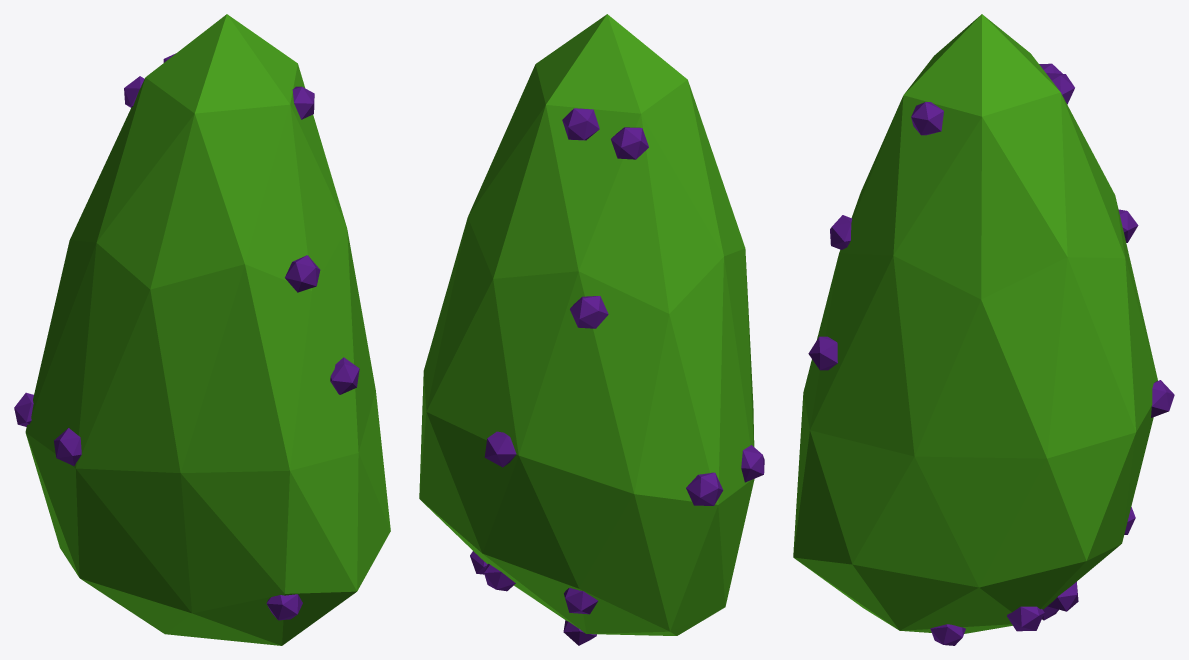
Rendered from Bush01_Brombeere.fbx.
The picture shows the model from 3 angles, left to right: view 1: azimuth 30°, elevation 25°; view 2: azimuth 150°, elevation 25°; view 3: azimuth 270°, elevation 25°; orthographic projection.
Parts seen in each view (by area): view 1: Bush01_Berry; view 2: Bush01_Berry; view 3: Bush01_Berry.
Part boxes in pixels (left/top/right/bottom): Bush01_Berry: left=14, top=14, right=390, bottom=645; Bush01_Berry: left=419, top=14, right=764, bottom=645; Bush01_Berry: left=793, top=14, right=1174, bottom=645.
Size of the model in its own units: 232 by 428 by 242.
